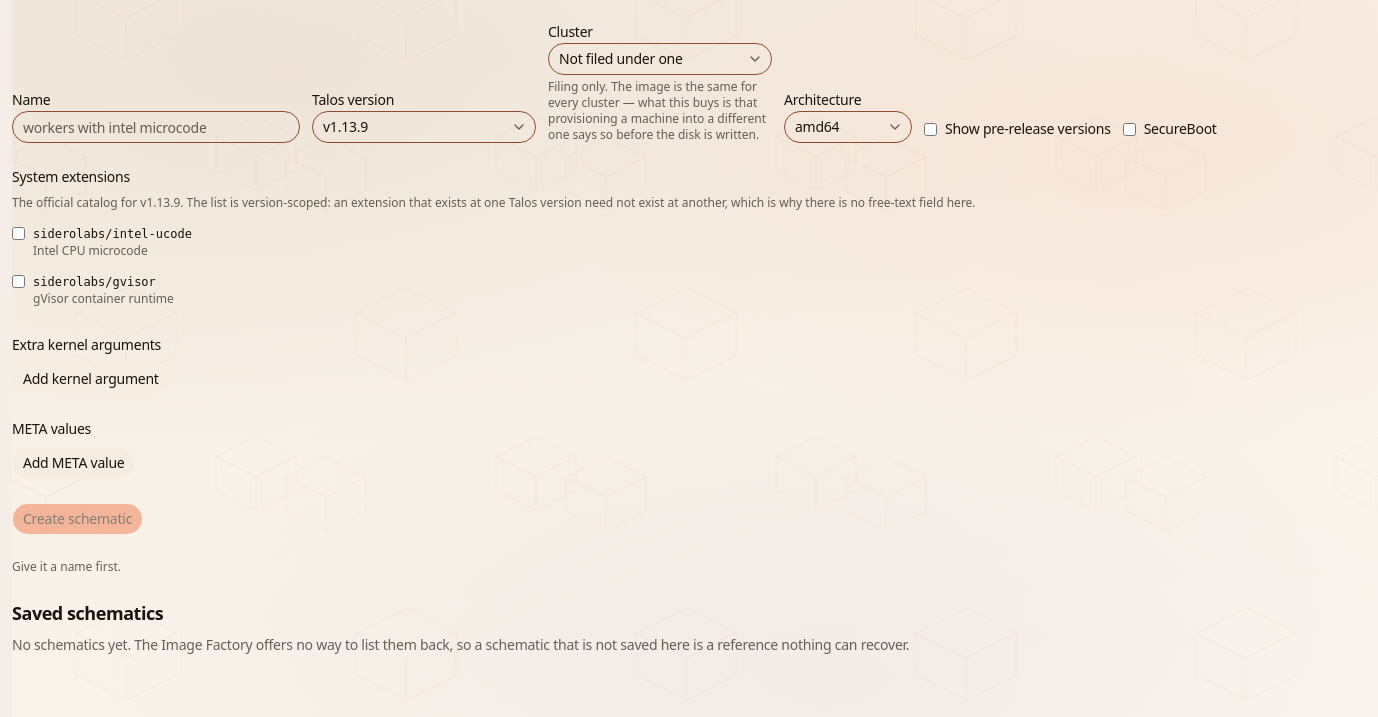
ImagesView — the authoring half › refuses a cleared META key rather than sending slot 0
Step 1. Type "cleared-key" into the field labelled "Name" → (156, 127), box top-left (12, 111), bottom-right (300, 143)
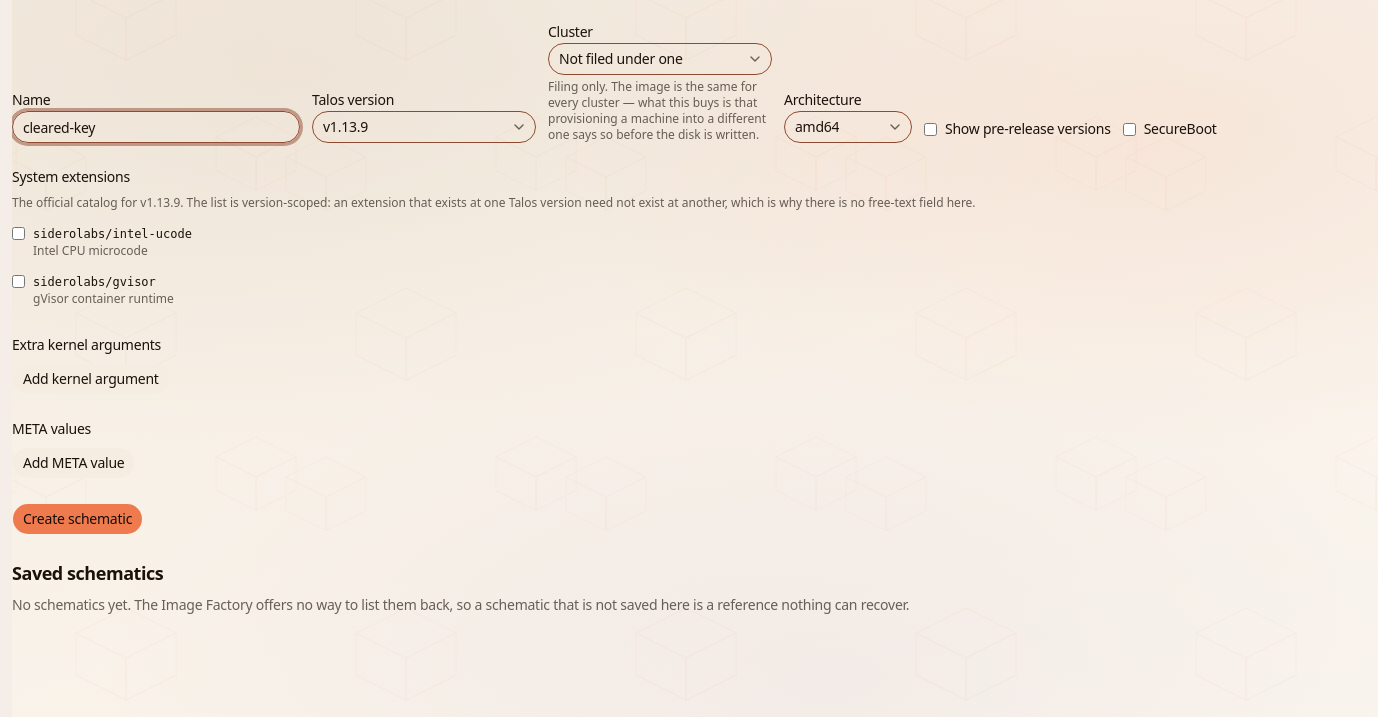
Step 2. Click the button "Add META value" → click(74, 463), box top-left (12, 447), bottom-right (136, 479)
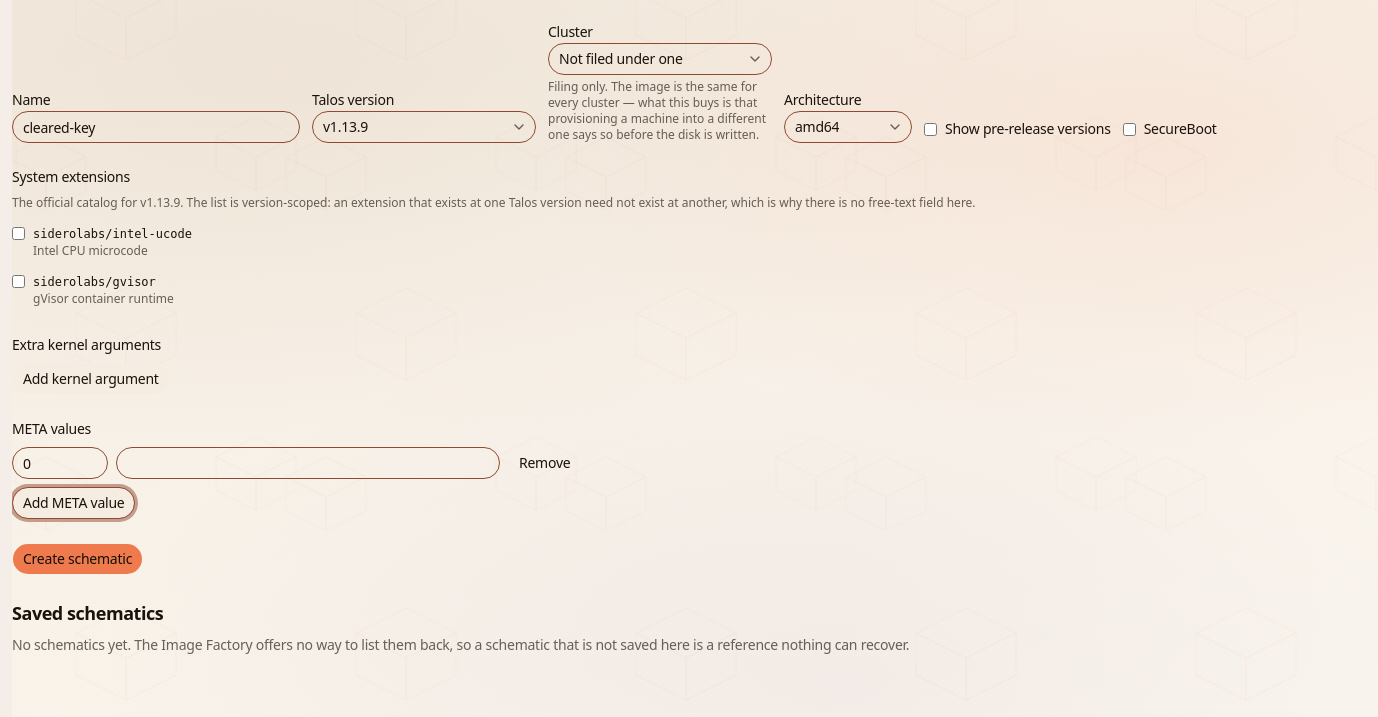
Step 3. Type "something" into the field named "META value 1" → (308, 463), box top-left (116, 447), bottom-right (500, 479)
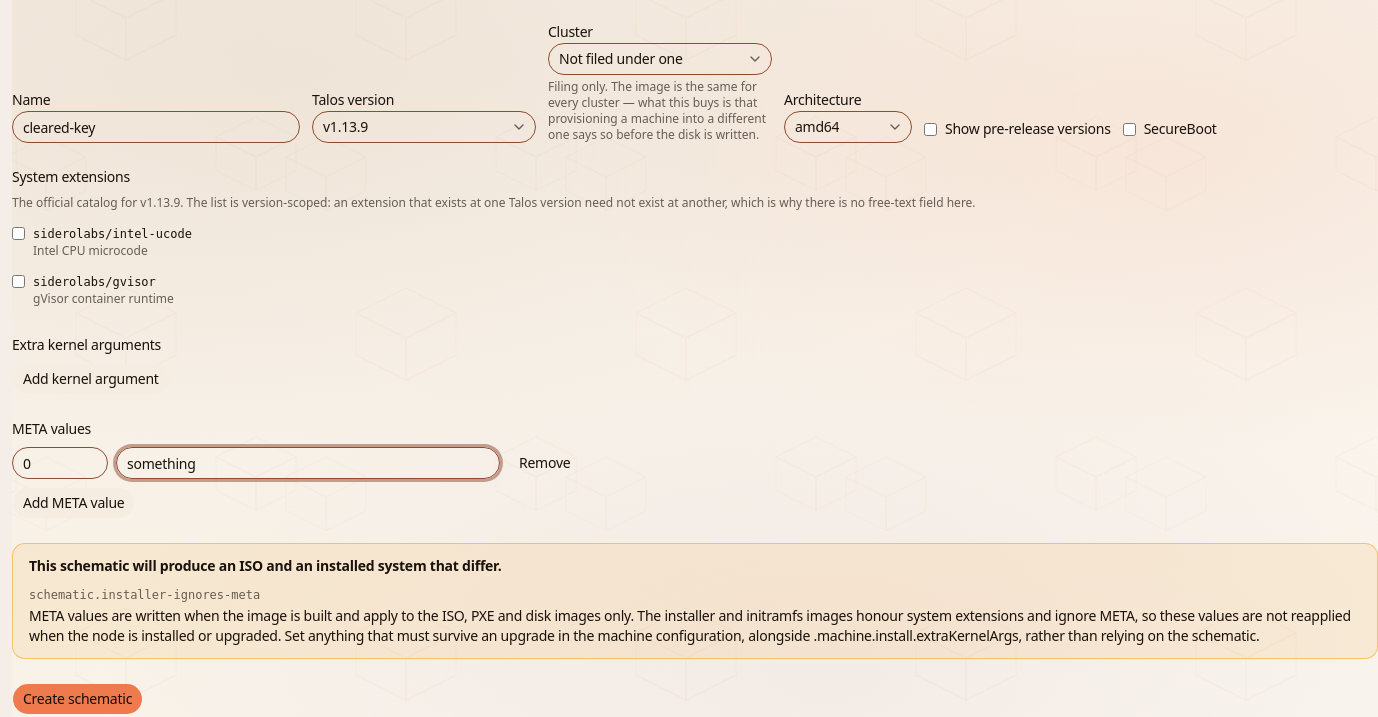
Step 4. Clear the number field named "META key 1" → (60, 463), box top-left (12, 447), bottom-right (108, 479)
(page scrolled)
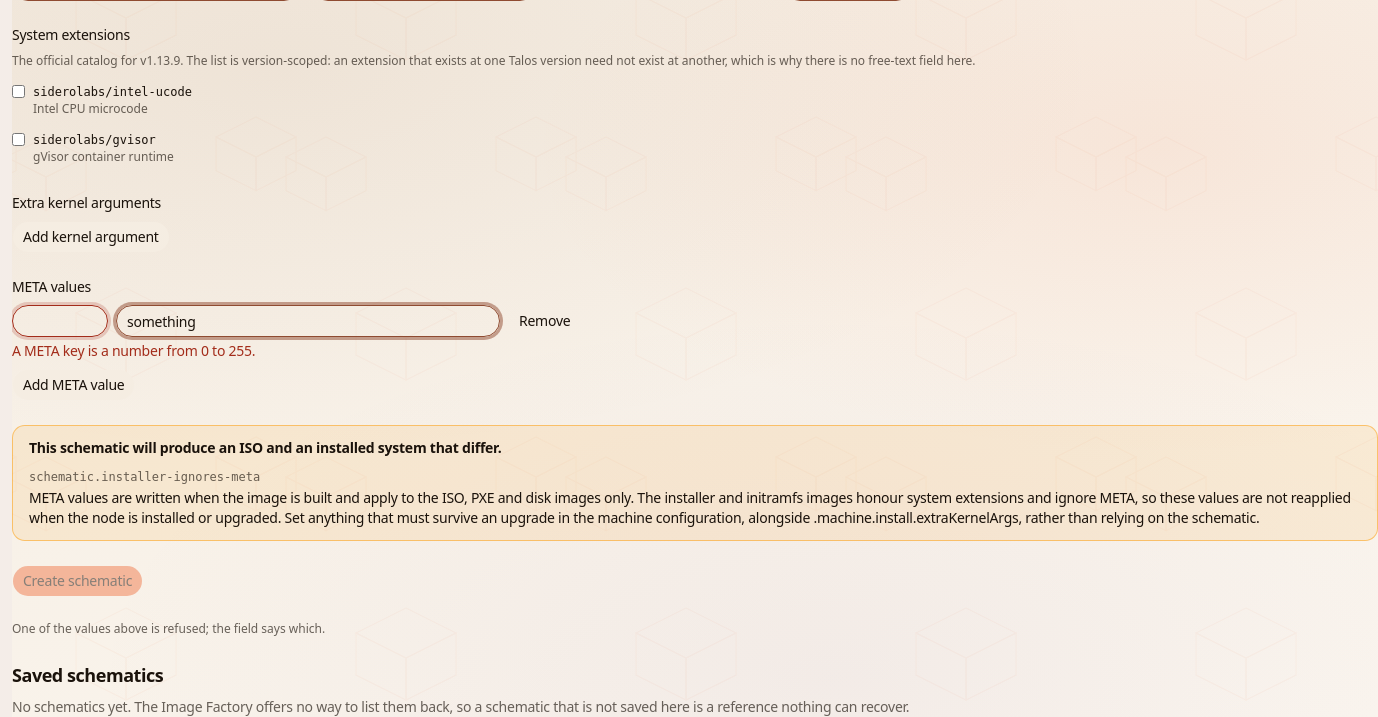
Now the message named "META key 1 is not usable" shows "0 to 255", box top-left (12, 341), bottom-right (255, 360)
Now the button "Create schematic" is disabled, box top-left (12, 565), bottom-right (143, 597)
